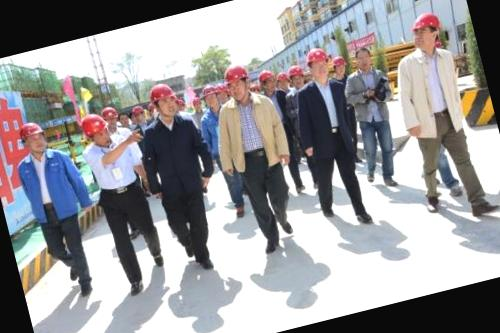no_helmet: (349, 40, 375, 74)
